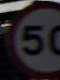Speed limit: (4, 3, 59, 69)
